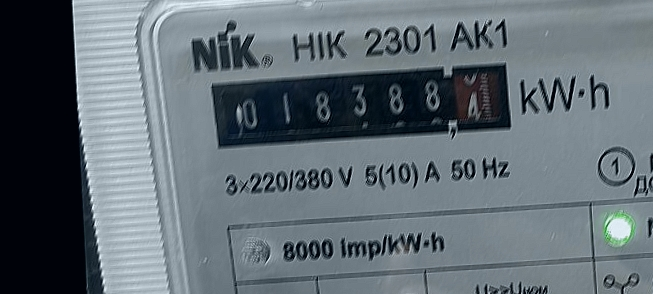0: (239, 95, 261, 132)
1: (277, 88, 296, 126)
3: (349, 82, 371, 118)
4: (463, 88, 485, 122)
8: (421, 76, 444, 113), (312, 87, 334, 124), (385, 81, 407, 117)
screen: (203, 53, 525, 159)
